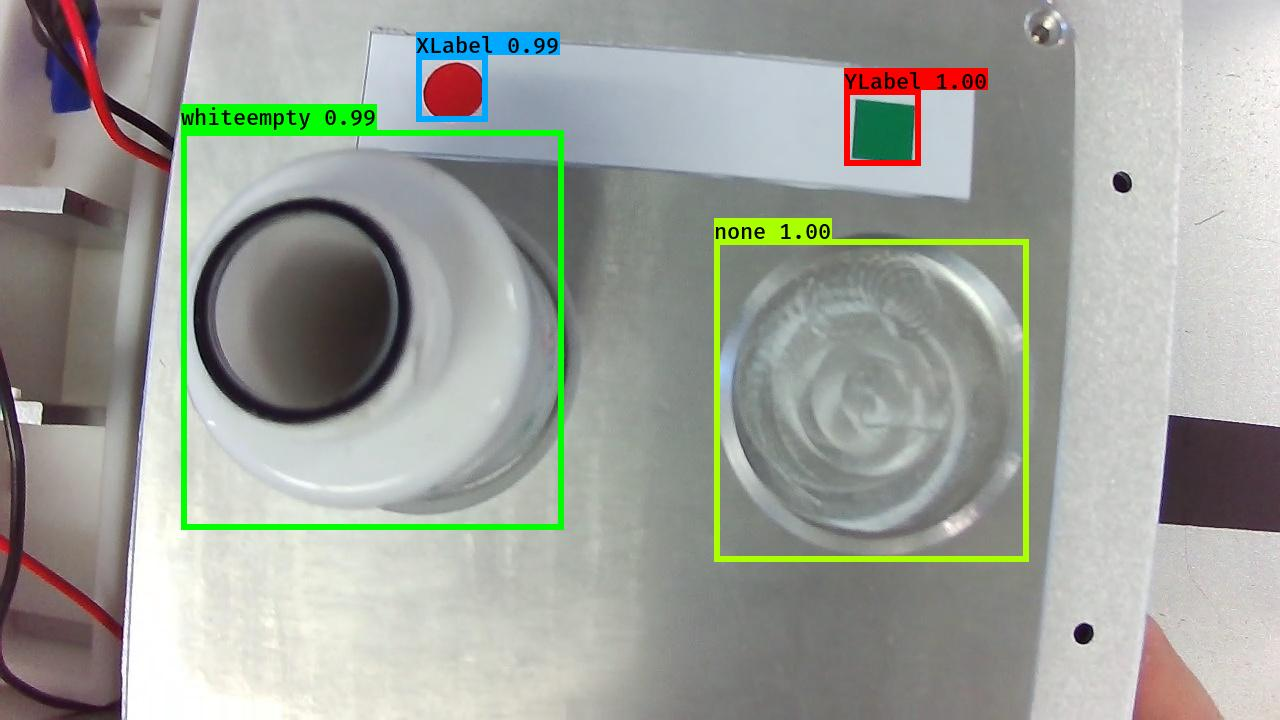XLabel: (419, 60, 489, 130)
YLabel: (849, 93, 917, 168)
none: (705, 228, 1045, 566)
whiteempty: (169, 142, 595, 524)
